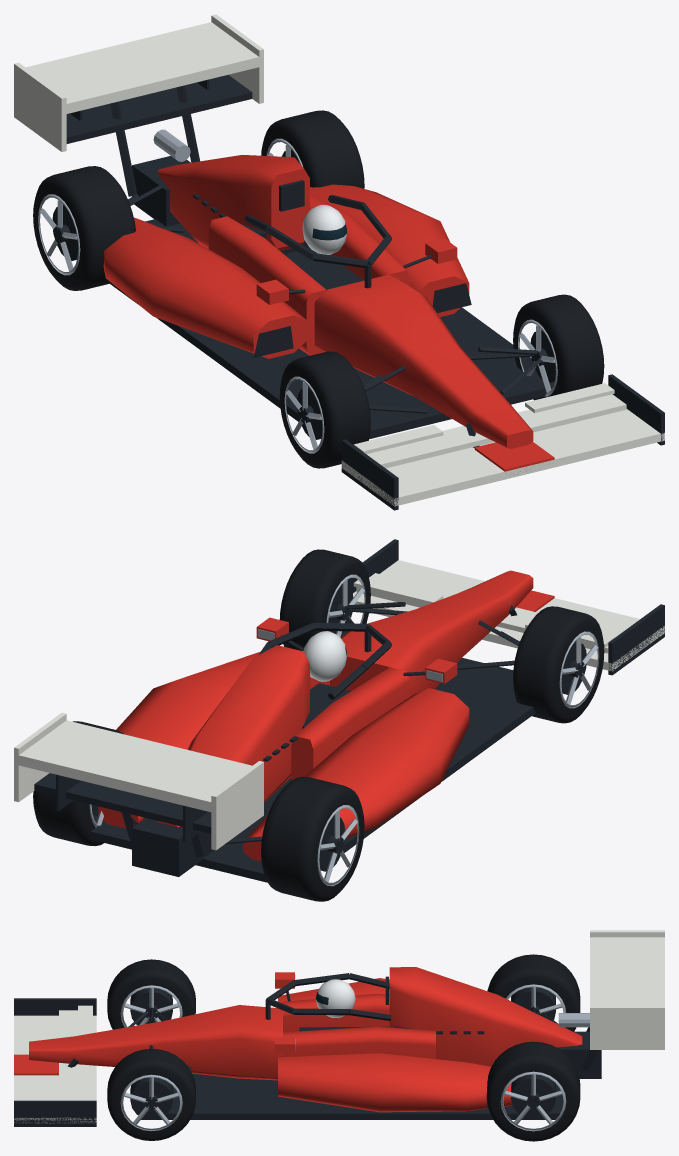
File: formula-lod0.glb
3 views of the same model, one above another, from view 1: azimuth 30°, elevation 25°; view 2: azimuth 150°, elevation 25°; view 3: azimuth 270°, elevation 25° (orthographic). The views are drawn at different scales.
Visible parts, largest first — view 1: chassis, wing_rear, wing_front, engine, wheel_rr, wheel_fr, wheel_fl, wheel_rl, helmet, mirror_l, mirror_r; view 2: chassis, wing_rear, engine, wing_front, wheel_rr, wheel_fr, wheel_fl, wheel_rl, helmet, mirror_r, mirror_l; view 3: chassis, engine, wing_rear, wing_front, wheel_rl, wheel_fl, wheel_fr, wheel_rr, helmet, mirror_l.
Boxes of the visible parts, bbox=[...] form: chassis: bbox=[103, 85, 554, 448]; wing_rear: bbox=[14, 14, 263, 151]; wing_front: bbox=[341, 374, 664, 510]; engine: bbox=[132, 129, 309, 250]; wheel_rr: bbox=[33, 166, 135, 290]; wheel_fr: bbox=[279, 351, 370, 468]; wheel_fl: bbox=[513, 294, 604, 400]; wheel_rl: bbox=[261, 110, 364, 188]; helmet: bbox=[302, 204, 346, 254]; mirror_l: bbox=[403, 238, 457, 268]; mirror_r: bbox=[256, 279, 305, 304]; chassis: bbox=[88, 570, 535, 882]; wing_rear: bbox=[14, 712, 263, 850]; engine: bbox=[132, 645, 309, 876]; wing_front: bbox=[342, 539, 664, 675]; wheel_rr: bbox=[261, 776, 364, 901]; wheel_fr: bbox=[513, 606, 604, 723]; wheel_fl: bbox=[279, 549, 370, 650]; wheel_rl: bbox=[33, 721, 123, 845]; helmet: bbox=[303, 631, 346, 681]; mirror_r: bbox=[403, 658, 457, 683]; mirror_l: bbox=[256, 617, 303, 650]; chassis: bbox=[29, 973, 597, 1119]; engine: bbox=[385, 967, 601, 1078]; wing_rear: bbox=[590, 930, 664, 1049]; wing_front: bbox=[14, 998, 96, 1126]; wheel_rl: bbox=[486, 1041, 580, 1141]; wheel_fl: bbox=[107, 1049, 195, 1140]; wheel_fr: bbox=[107, 959, 195, 1029]; wheel_rr: bbox=[487, 954, 580, 1031]; helmet: bbox=[315, 979, 355, 1017]; mirror_l: bbox=[275, 1037, 295, 1053].
Size of the model in its own units: 2.08 by 1.07 by 5.2.
